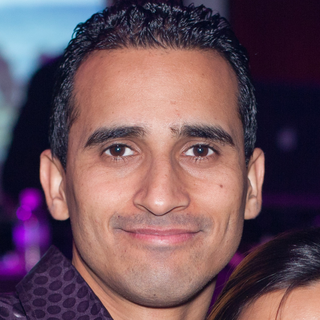eye: (92, 136, 146, 165), (173, 138, 225, 165)
